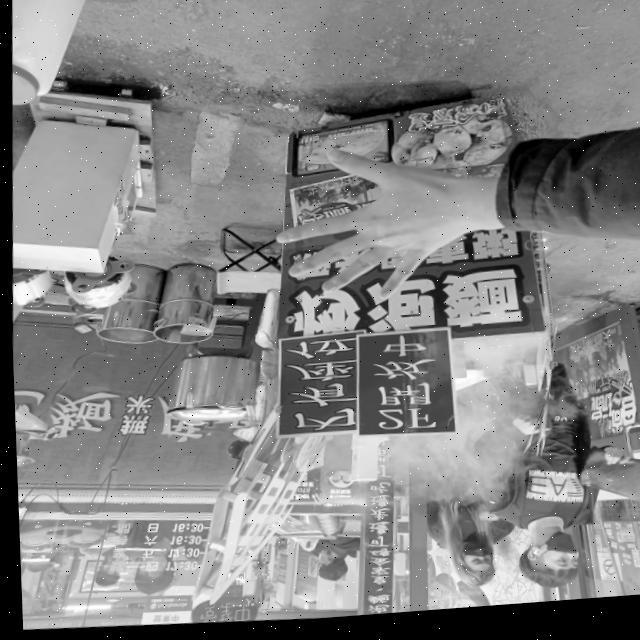no-gloves: (264, 134, 502, 314)
